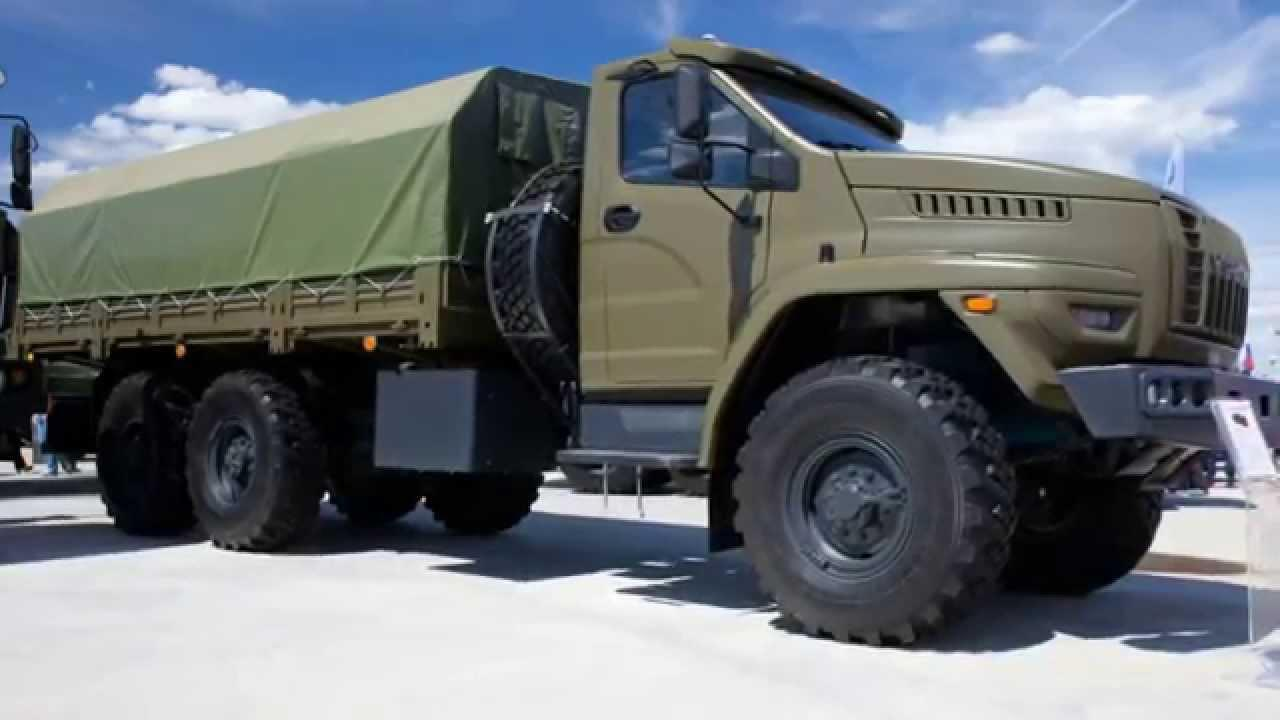truck: (6, 27, 1245, 658)
